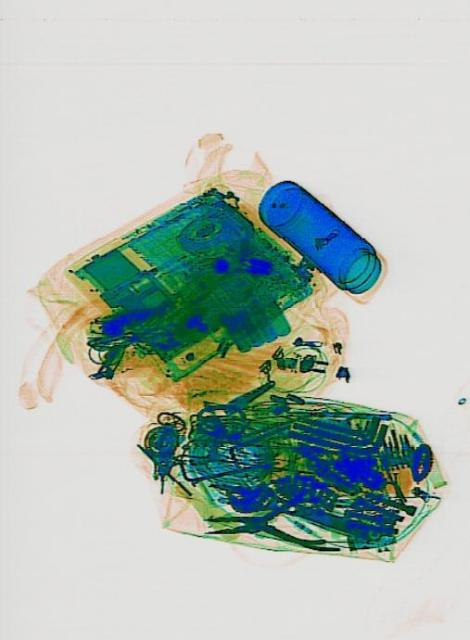Pliers: (200, 491, 324, 549)
